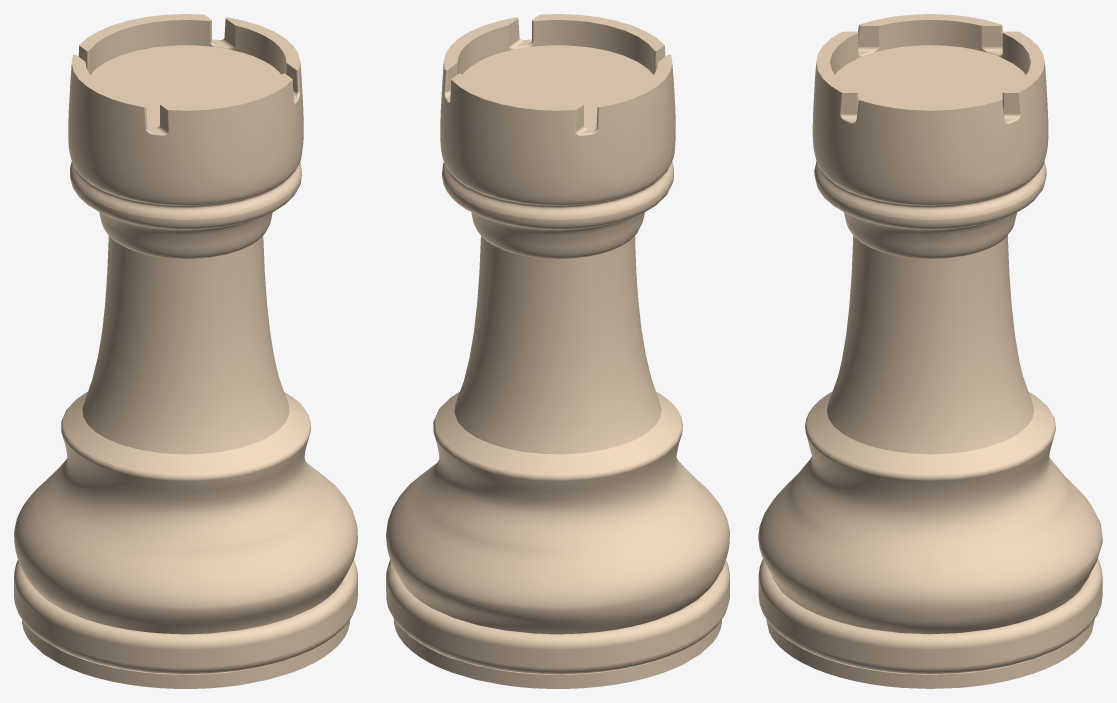
Rendered from RookSilver.fbx.
The picture shows the model from 3 angles, left to right: view 1: azimuth 30°, elevation 25°; view 2: azimuth 150°, elevation 25°; view 3: azimuth 270°, elevation 25°; orthographic projection.
Visible parts, largest first — view 1: Ладья (1); view 2: Ладья (1); view 3: Ладья (1).
Part boxes in pixels (<box>): Ладья (1): <box>14,14,357,688</box>; Ладья (1): <box>386,14,729,688</box>; Ладья (1): <box>758,14,1102,688</box>.
Bounding box in the file's own units: 1.85 × 3.3 × 1.85.
